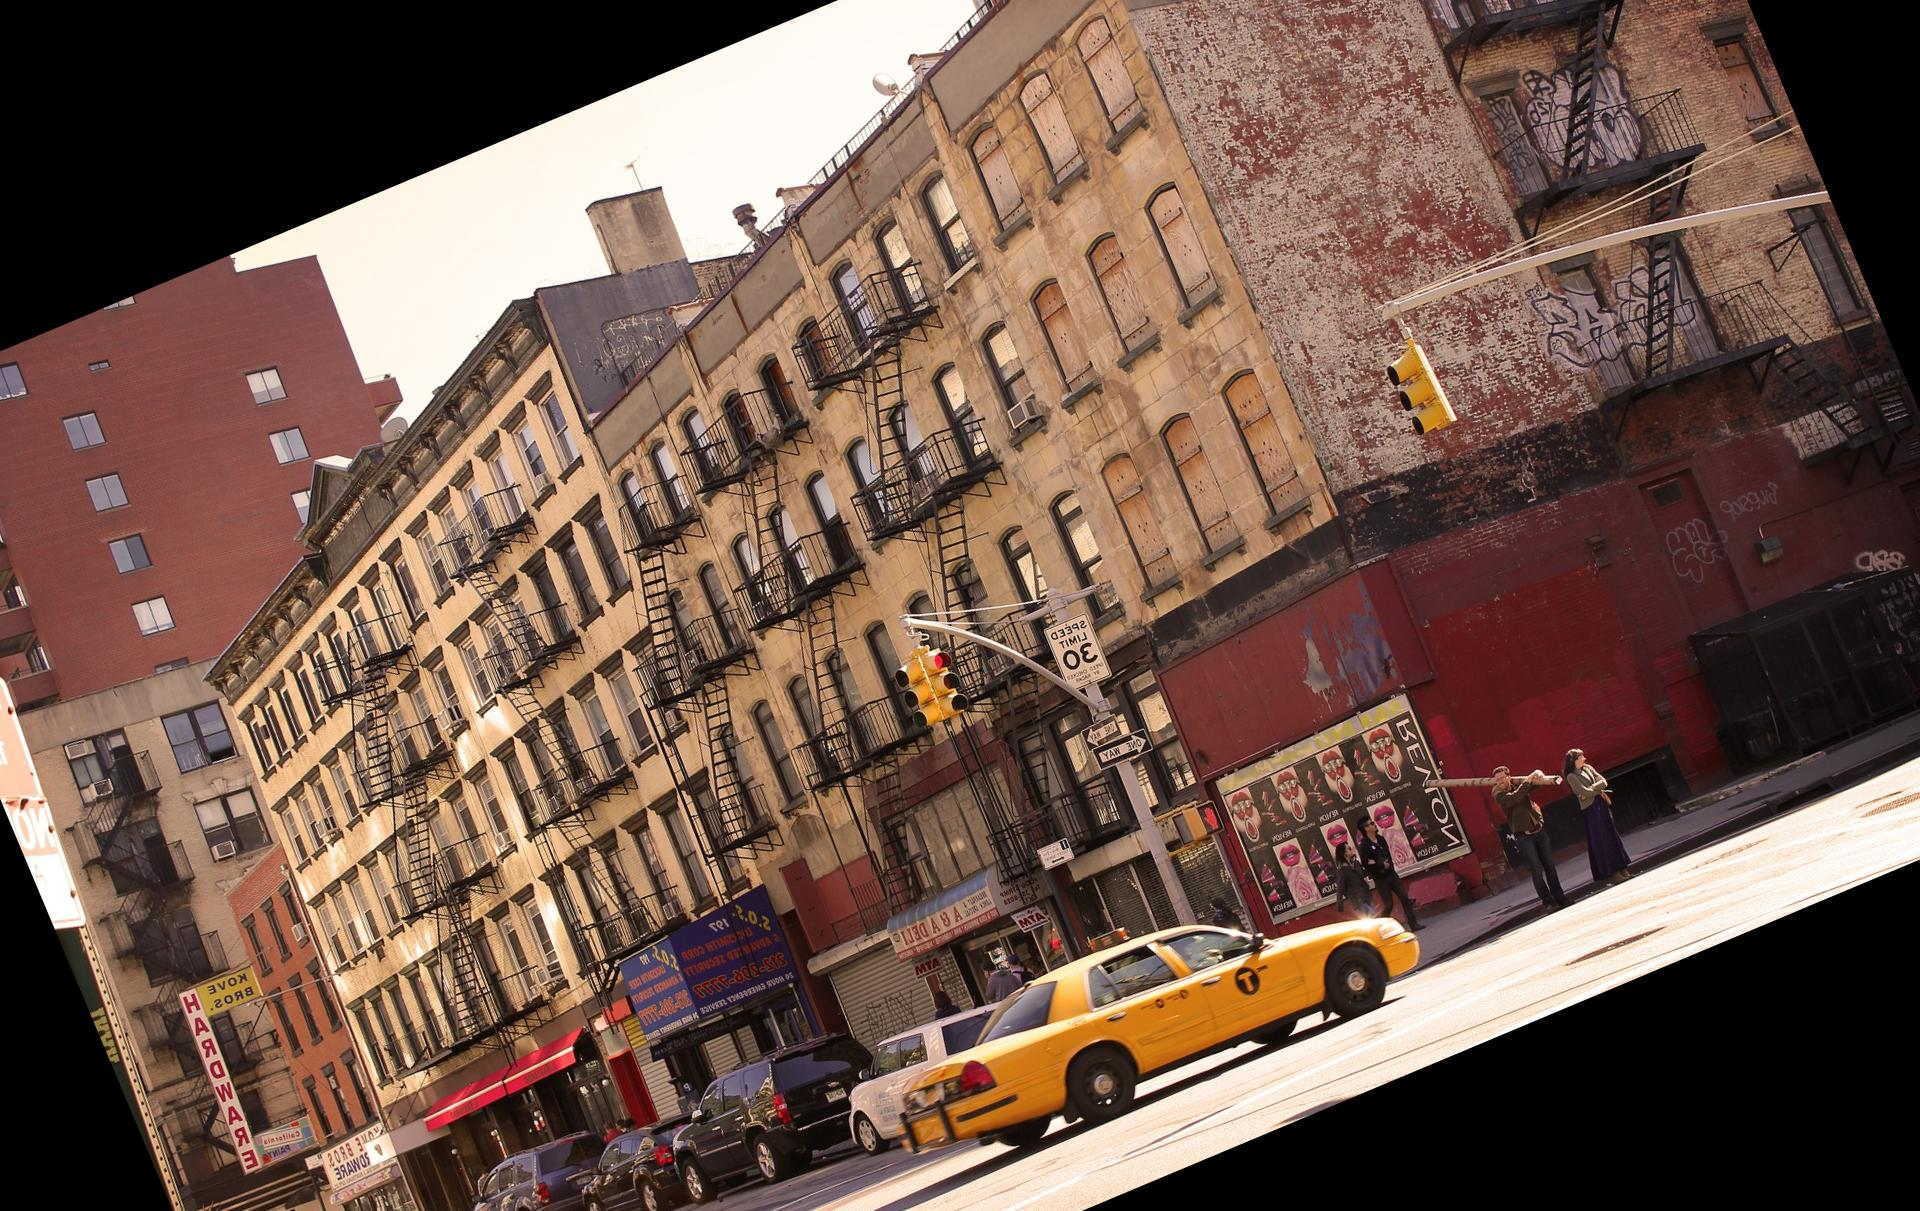taxi: (903, 892, 1423, 1154)
